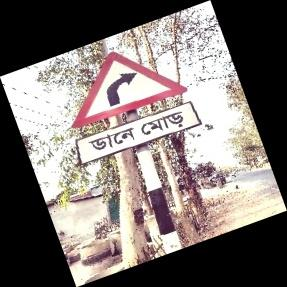Right-turn: (70, 51, 201, 169)
